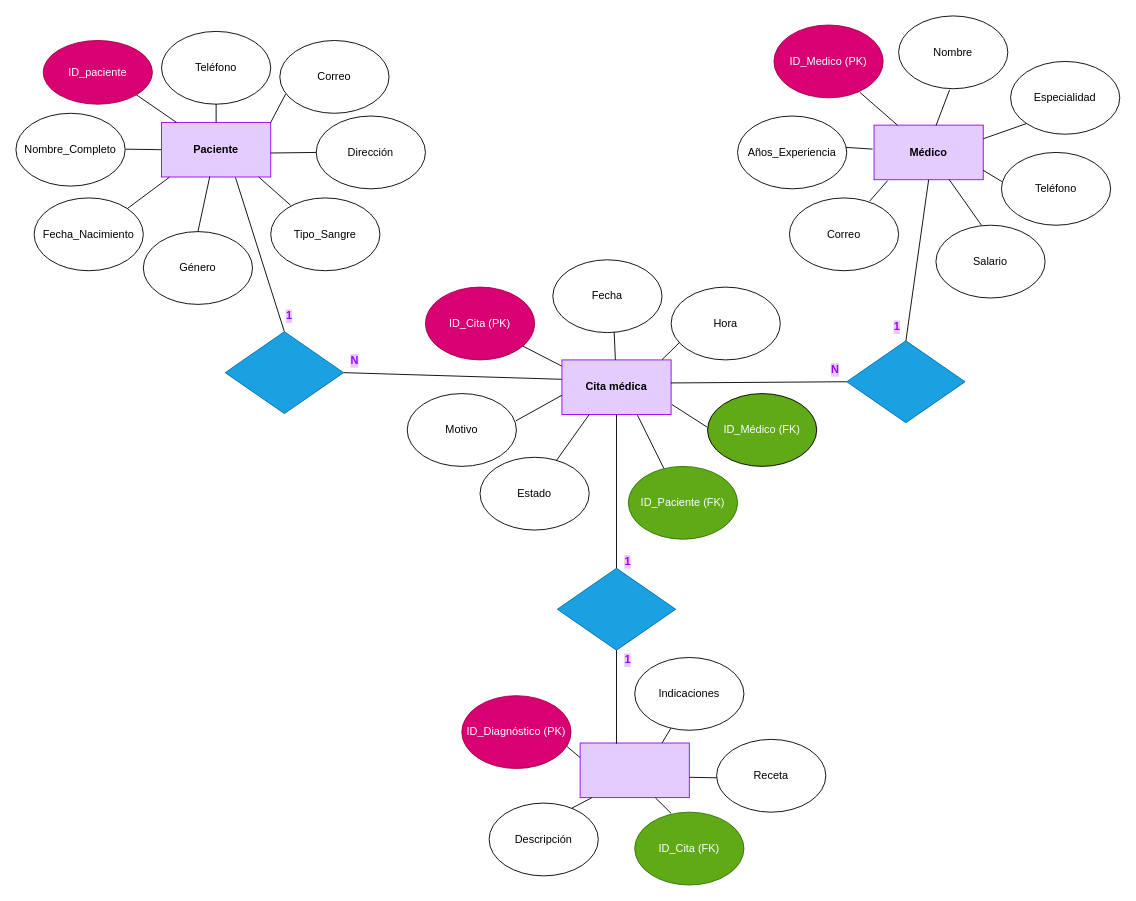
Some shapes in this 1136 by 901 pixel diagram are drawn without their labels. The shapes that lost their labels are listed below. From the top down, each one's box as (x1, y1, x2, y2) in pixels, then its label:
(224, 331, 344, 414): Solicita 1:N
(846, 340, 965, 423): Atiende 1:N
(556, 567, 676, 650): Genera 1:1
(579, 742, 689, 798): Diagnóstico
